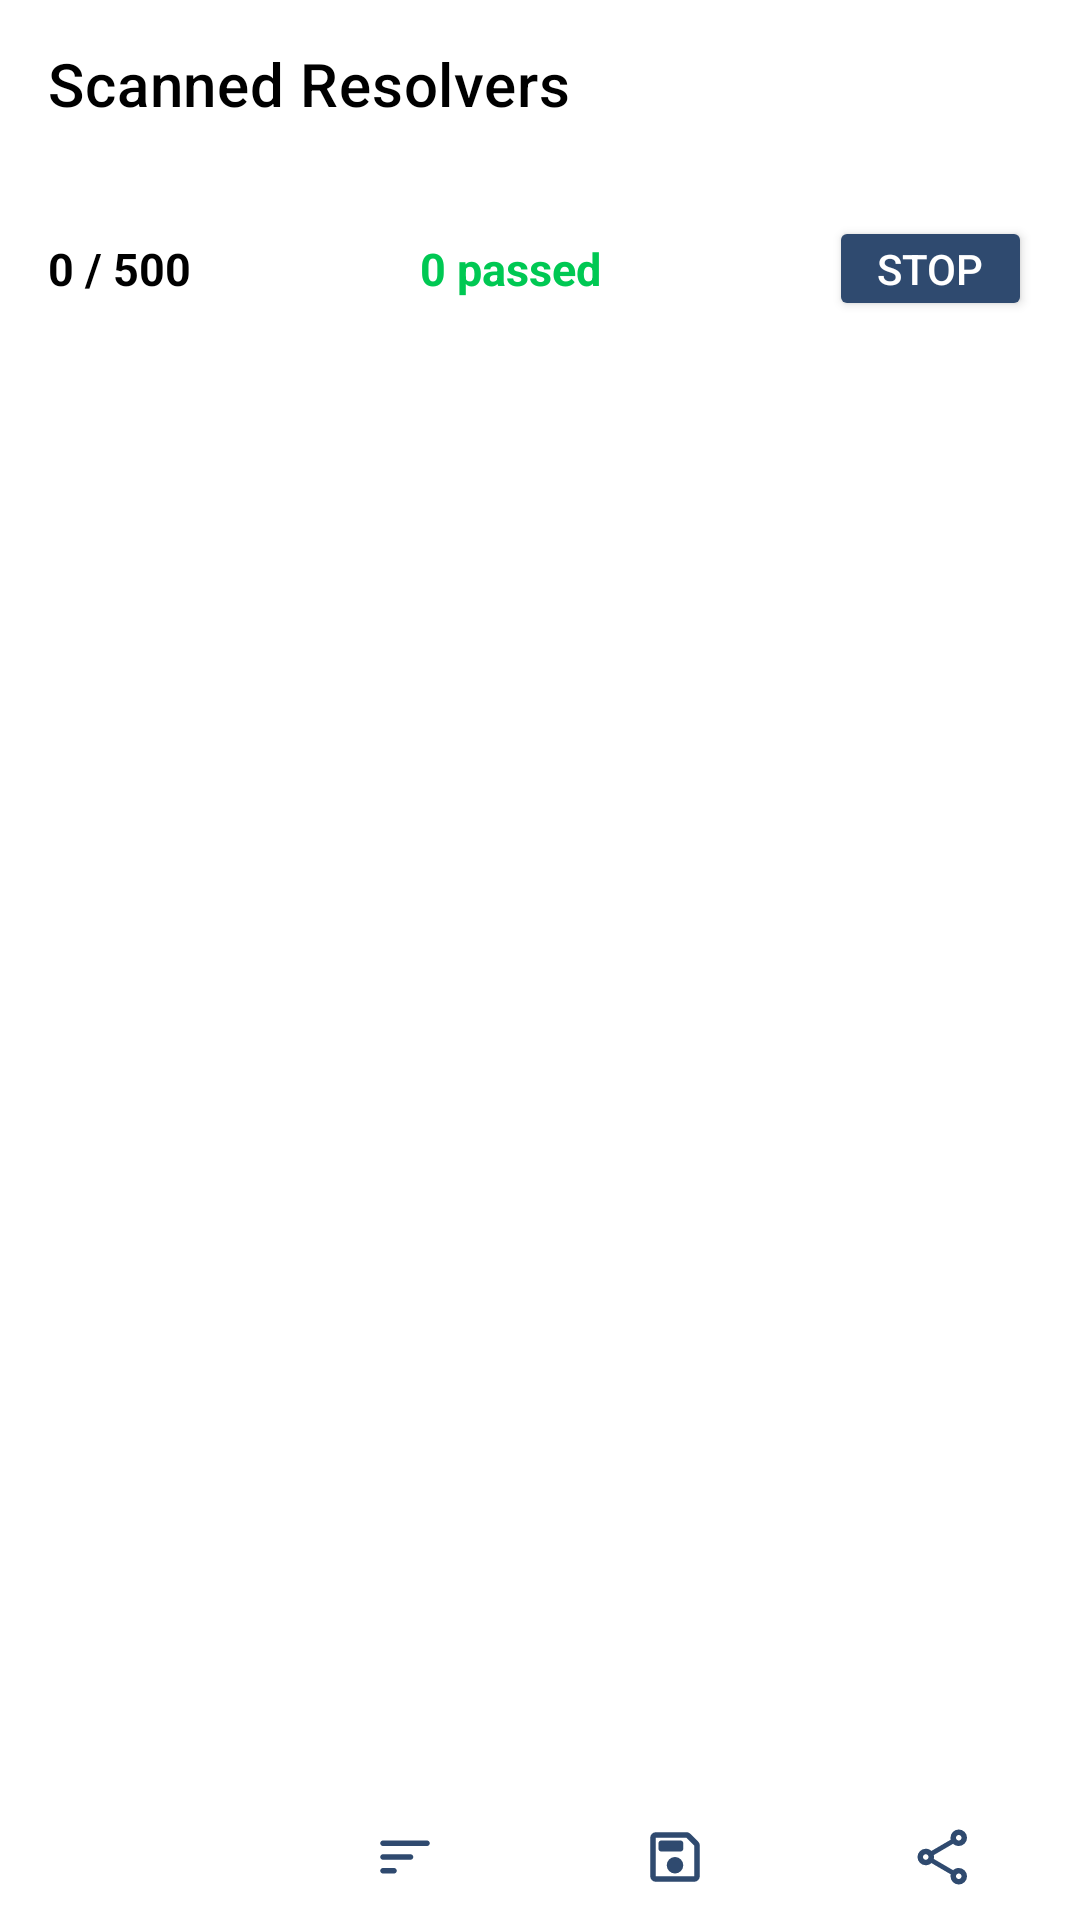

Icon click points for this 1080×1920 phone screenshot, format [x,y]:
Save Fast Resolvers: [675,1857]
Share IPs: [942,1857]
Sort by Latency: [405,1857]
